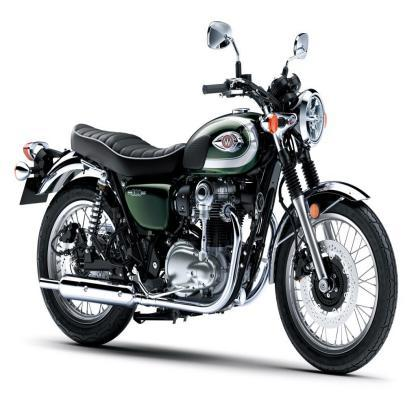Motorcycle: (12, 19, 400, 381)
